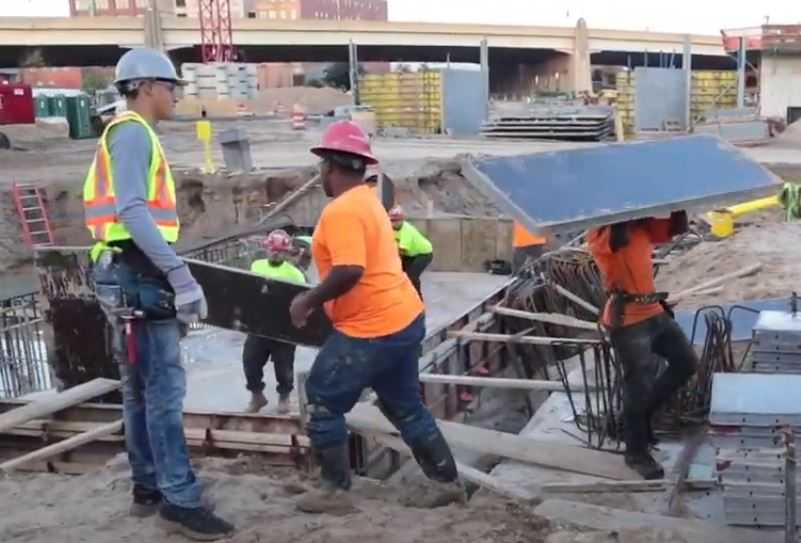Safety Helmet: (102, 35, 192, 137), (299, 112, 386, 208), (258, 220, 320, 282)
